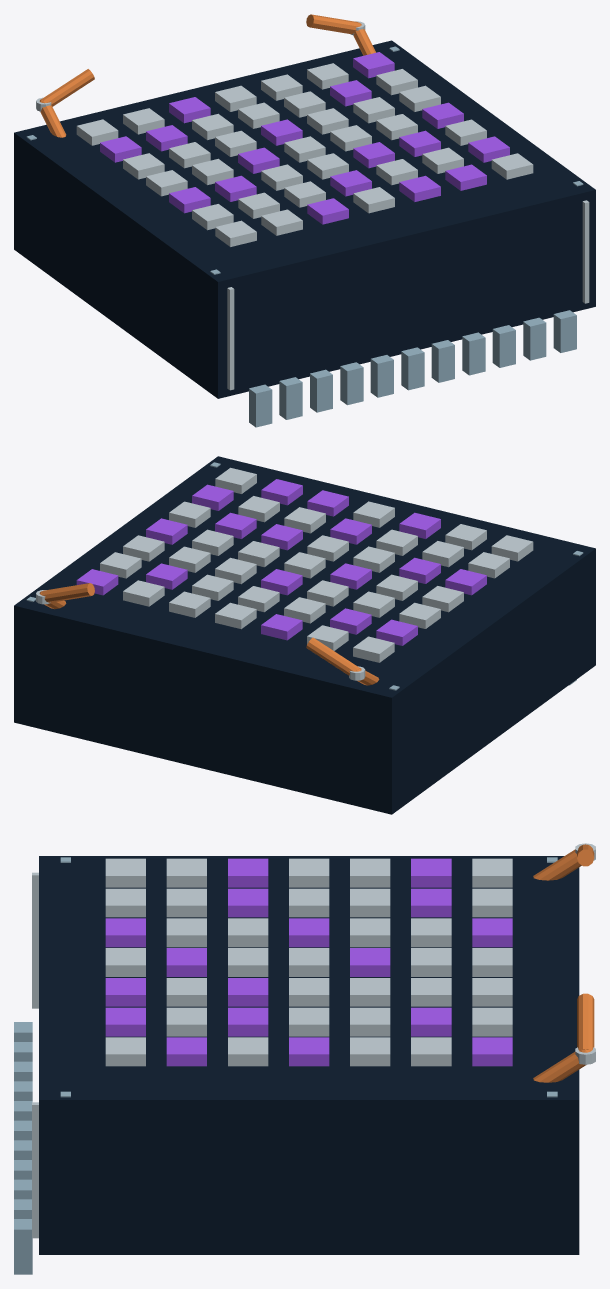
The model's file is 16_L74_OpticalIlluminationHomogenizer.fbx.
3 views of the same model, one above another, from view 1: azimuth 30°, elevation 25°; view 2: azimuth 150°, elevation 25°; view 3: azimuth 270°, elevation 25° (orthographic). The views are drawn at different scales.
Parts seen in each view (by area): view 1: OpticalIlluminationHomogenizer; view 2: OpticalIlluminationHomogenizer; view 3: OpticalIlluminationHomogenizer.
Boxes of the visible parts, left/top/right/bottom form: OpticalIlluminationHomogenizer: left=14, top=14, right=595, bottom=427; OpticalIlluminationHomogenizer: left=14, top=456, right=595, bottom=814; OpticalIlluminationHomogenizer: left=14, top=843, right=595, bottom=1274.
Size of the model in its own units: 186 by 88.48 by 187.
